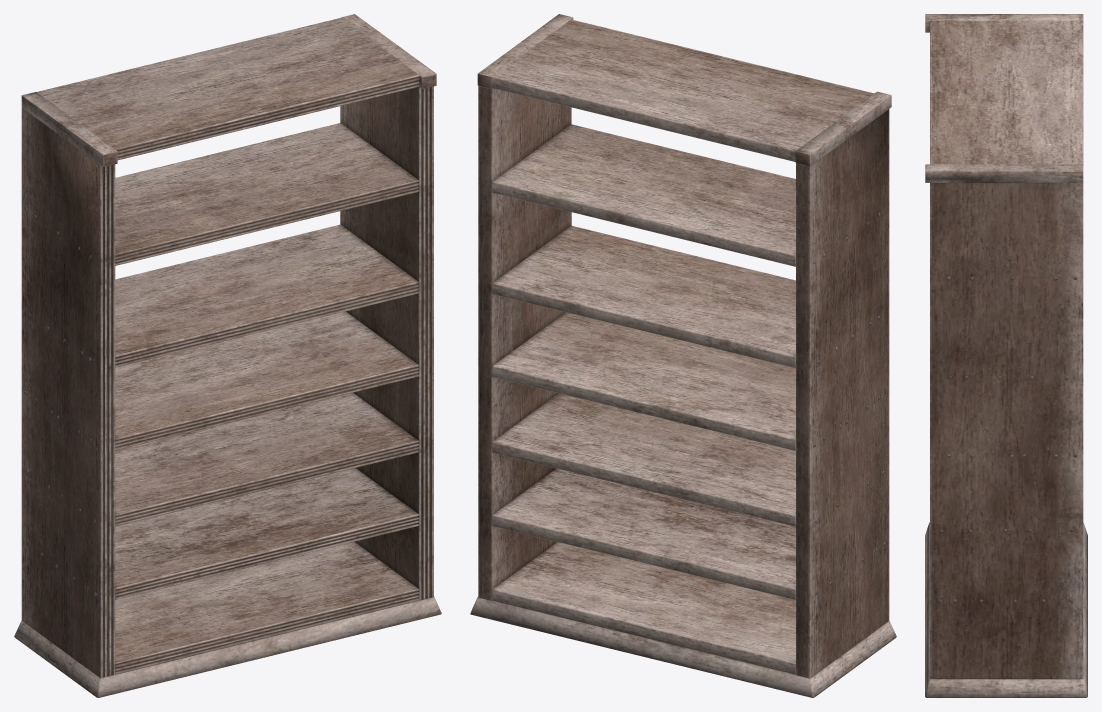
File: wooden_bookshelf_worn.glb
The picture shows the model from 3 angles, left to right: view 1: azimuth 30°, elevation 25°; view 2: azimuth 150°, elevation 25°; view 3: azimuth 270°, elevation 25°; orthographic projection. The views are drawn at different scales.
Parts seen in each view (by area): view 1: wooden_bookshelf_worn; view 2: wooden_bookshelf_worn; view 3: wooden_bookshelf_worn.
Boxes of the visible parts, x1,y1,x2,y2 form: wooden_bookshelf_worn: (14,14,441,697); wooden_bookshelf_worn: (470,14,896,697); wooden_bookshelf_worn: (925,14,1087,697).
Size of the model in its own units: 1.37 by 2.06 by 0.5814.
1 material, 1 textured.
